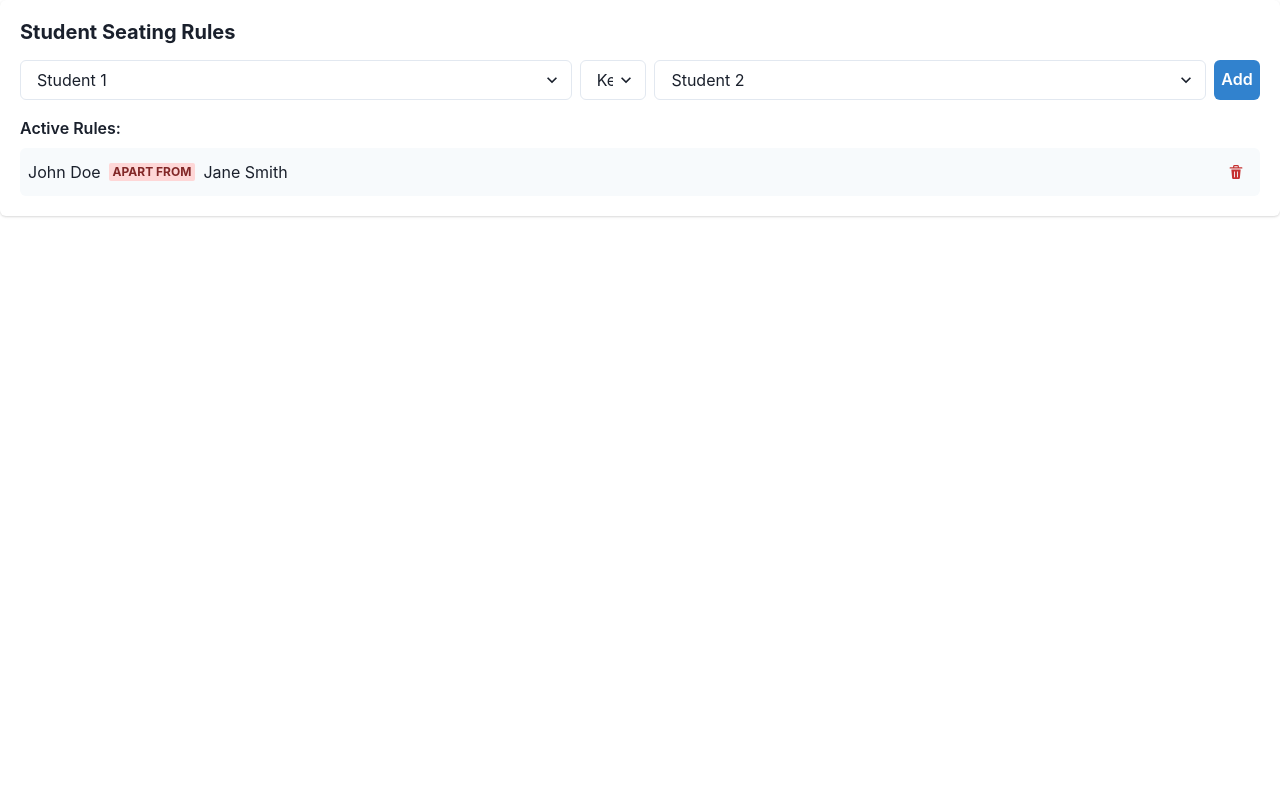
Test case: StudentConstraints › deleting constraints › removes constraint from display after successful delete
expect the text "Active Rules:" is shown: met, box [20,118,121,138]
What coordinates should you click on to do the following:
click the button named "remove constraint"
I would click on:
 (1236, 172)
Its box is [1220,156,1252,188].
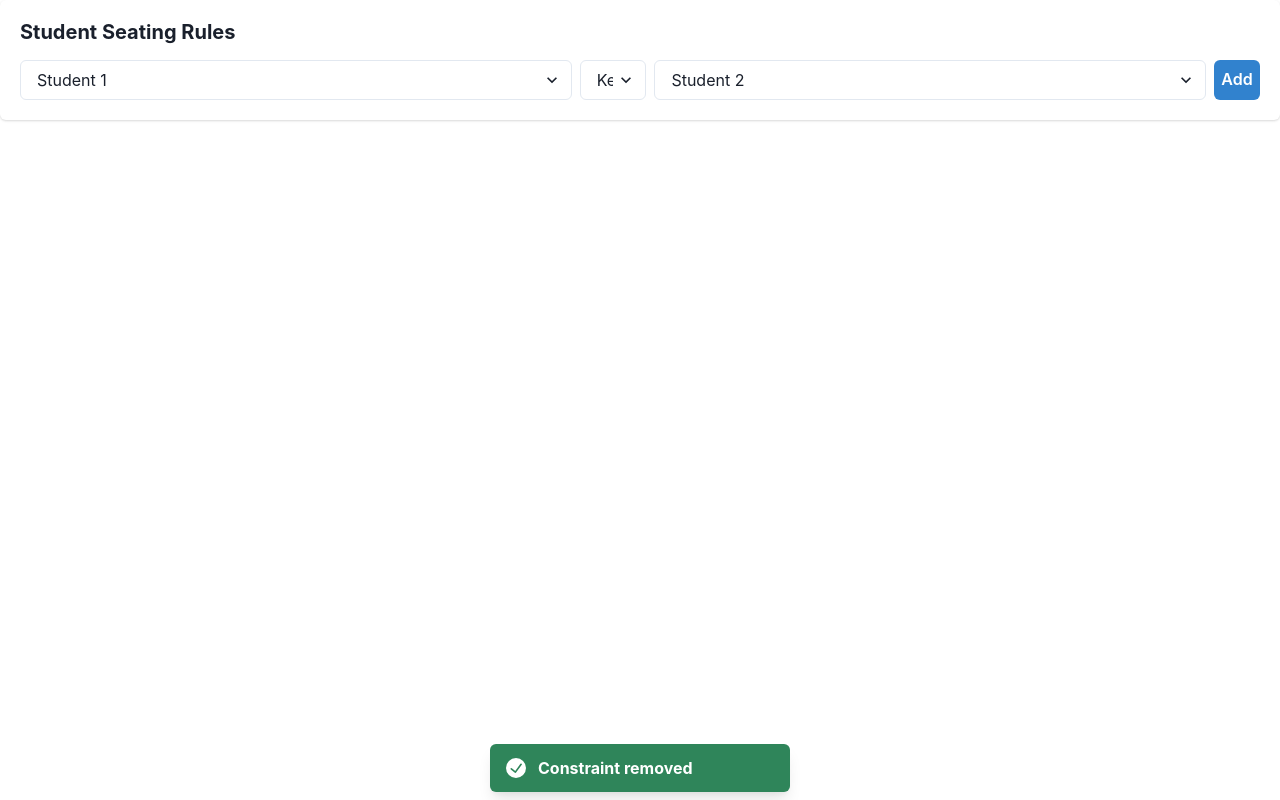
expect the text "Active Rules:" is gone: met
